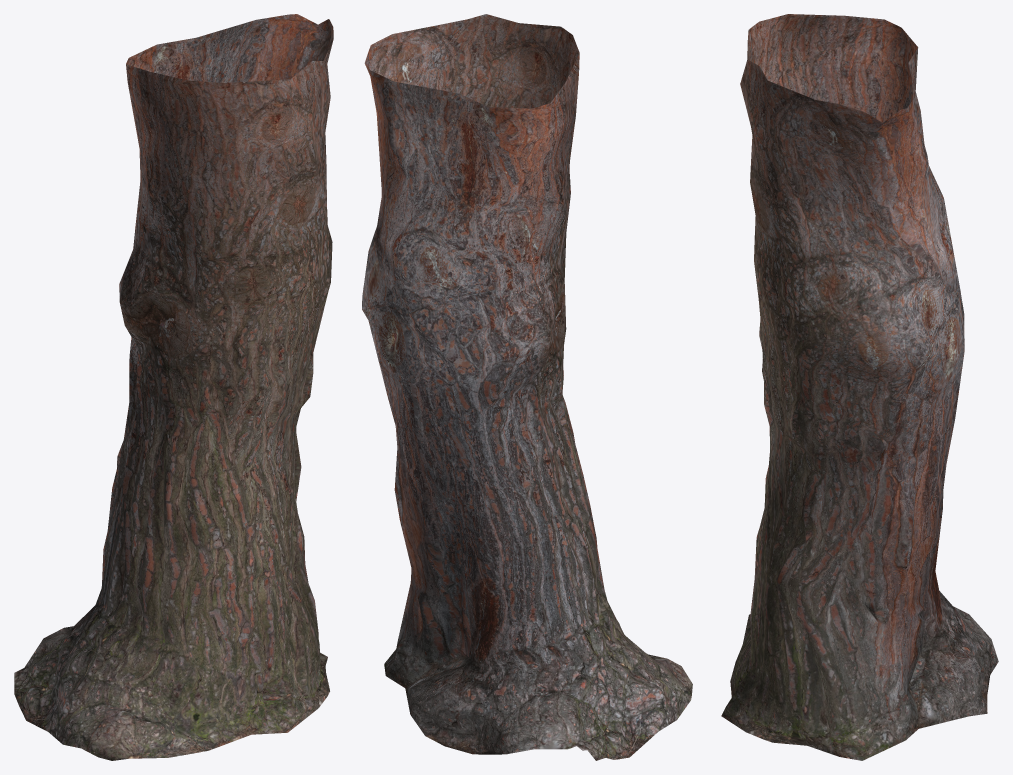
The model's file is tree.glb.
3 renders of one model, left to right at view 1: azimuth 30°, elevation 25°; view 2: azimuth 150°, elevation 25°; view 3: azimuth 270°, elevation 25°, orthographic. The views are drawn at different scales.
Parts seen in each view (by area): view 1: qegv3_LOD0_TIER3_000; view 2: qegv3_LOD0_TIER3_000; view 3: qegv3_LOD0_TIER3_000.
Part boxes in pixels (<box>): qegv3_LOD0_TIER3_000: <box>14,14,333,760</box>; qegv3_LOD0_TIER3_000: <box>362,14,692,760</box>; qegv3_LOD0_TIER3_000: <box>721,14,998,760</box>.
Bounding box in the file's own units: 1.33 × 2.89 × 1.06.
Materials: 1 (1 with a texture image).
